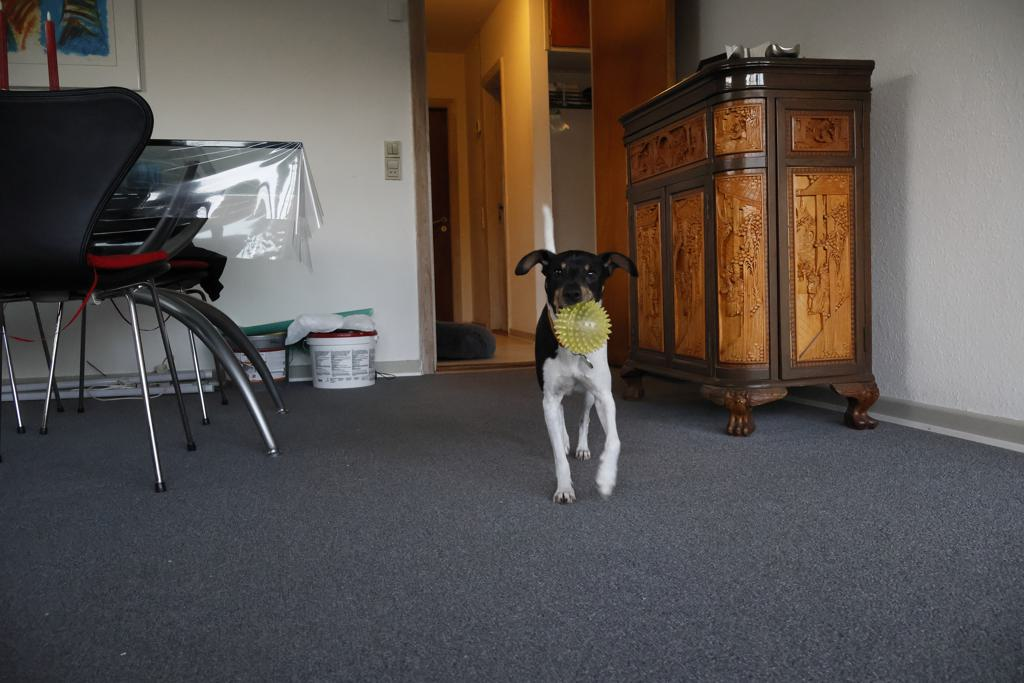Dog: (487, 194, 665, 514)
